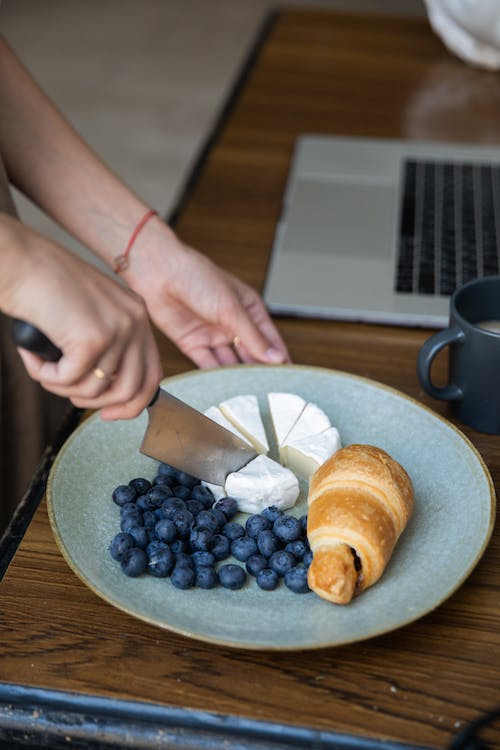knife: (10, 319, 260, 485)
